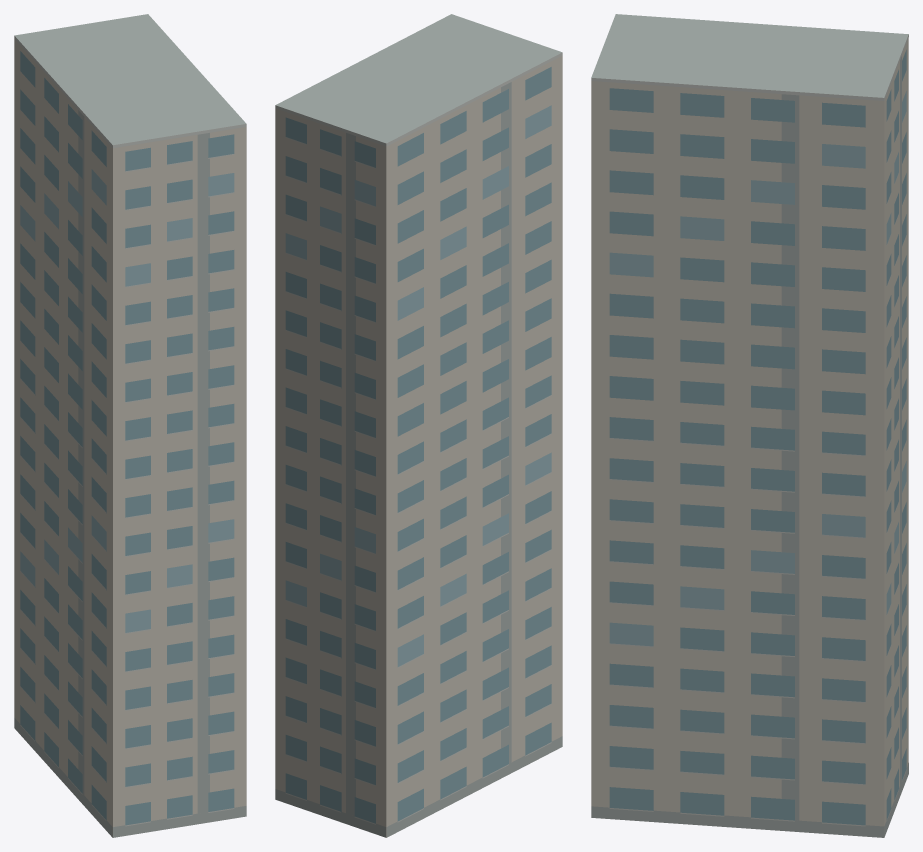
File: residential-fa940479-c818-44af-bb34-734396608899.glb
3 views of the same model, side by side, from view 1: azimuth 30°, elevation 25°; view 2: azimuth 150°, elevation 25°; view 3: azimuth 270°, elevation 25° (orthographic). The views are drawn at different scales.
Visible parts, largest first — view 1: residential-fa940479-c818-44af-bb34-734396608899.tmp; view 2: residential-fa940479-c818-44af-bb34-734396608899.tmp; view 3: residential-fa940479-c818-44af-bb34-734396608899.tmp.
Part boxes in pixels (<box>): residential-fa940479-c818-44af-bb34-734396608899.tmp: <box>14,14,246,837</box>; residential-fa940479-c818-44af-bb34-734396608899.tmp: <box>275,14,562,837</box>; residential-fa940479-c818-44af-bb34-734396608899.tmp: <box>591,14,908,837</box>.
Size of the model in its own units: 13.36 by 54.9 by 21.36.
